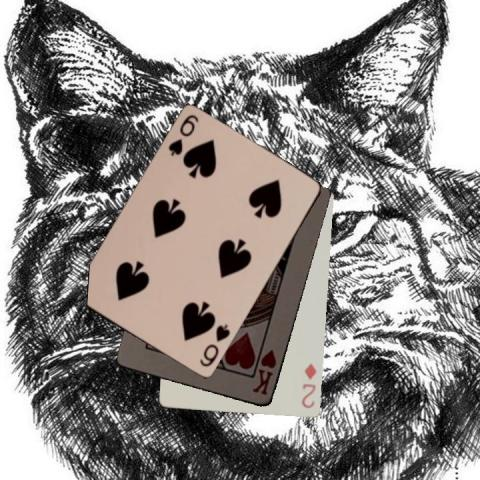2d: (298, 361, 318, 410)
6s: (197, 322, 232, 369), (165, 111, 200, 158)
Kh: (249, 347, 278, 397)
